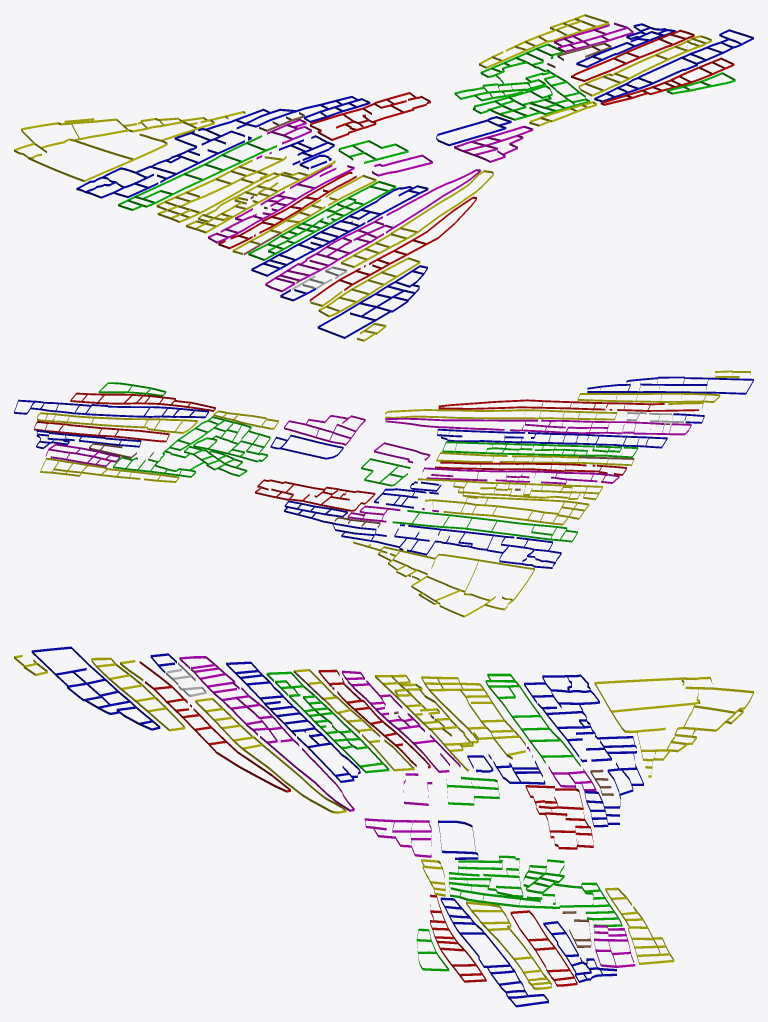
File: Zabor.fbx
3 renders of one model, top to bottom at view 1: azimuth 30°, elevation 25°; view 2: azimuth 150°, elevation 25°; view 3: azimuth 270°, elevation 25°, orthographic. The views are drawn at different scales.
Parts seen in each view (by area): view 1: zabor; view 2: zabor; view 3: zabor.
Part boxes in pixels (x1,y1,x2,y2): zabor: (14, 14, 753, 341); zabor: (14, 370, 753, 617); zabor: (14, 646, 753, 1007).
Bounding box in the file's own units: 124944 × 6740 × 112165.
